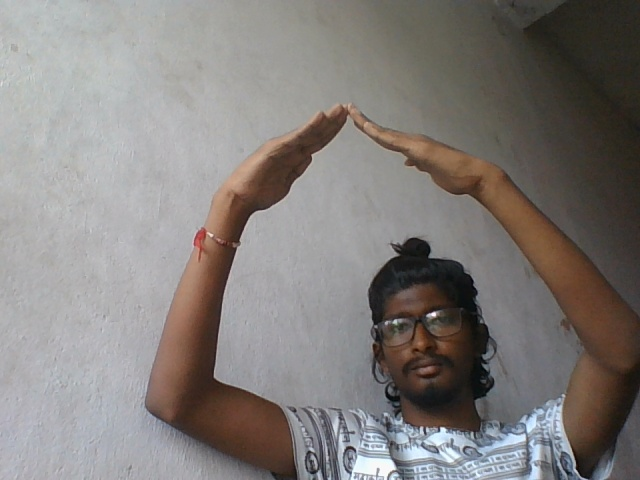Good: (186, 96, 552, 238)
